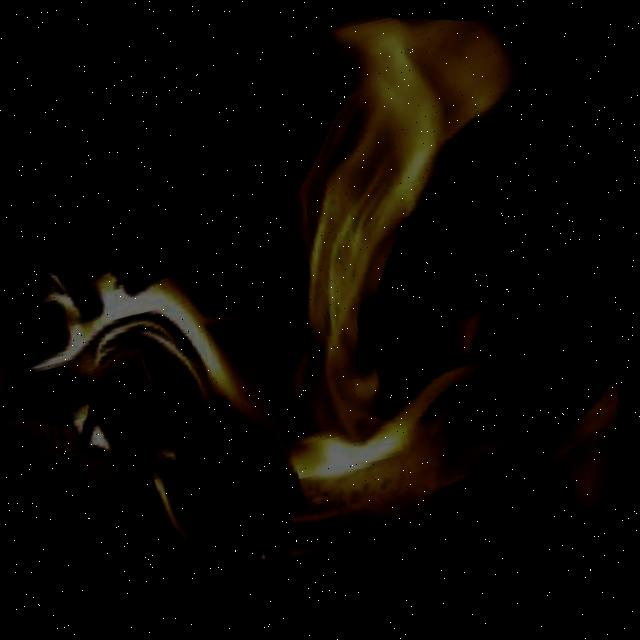Smoke: (0, 0, 640, 585)
